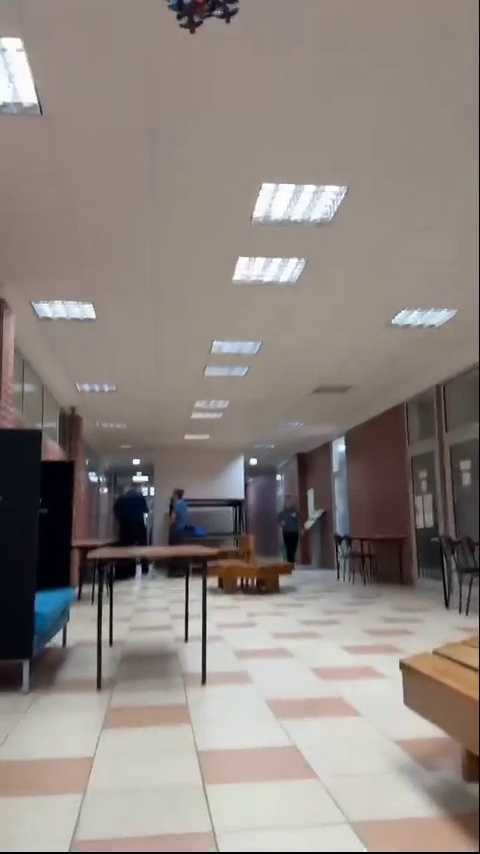drone: (168, 0, 243, 36)
no vest: (116, 485, 152, 584), (162, 478, 207, 551), (271, 488, 312, 563)
